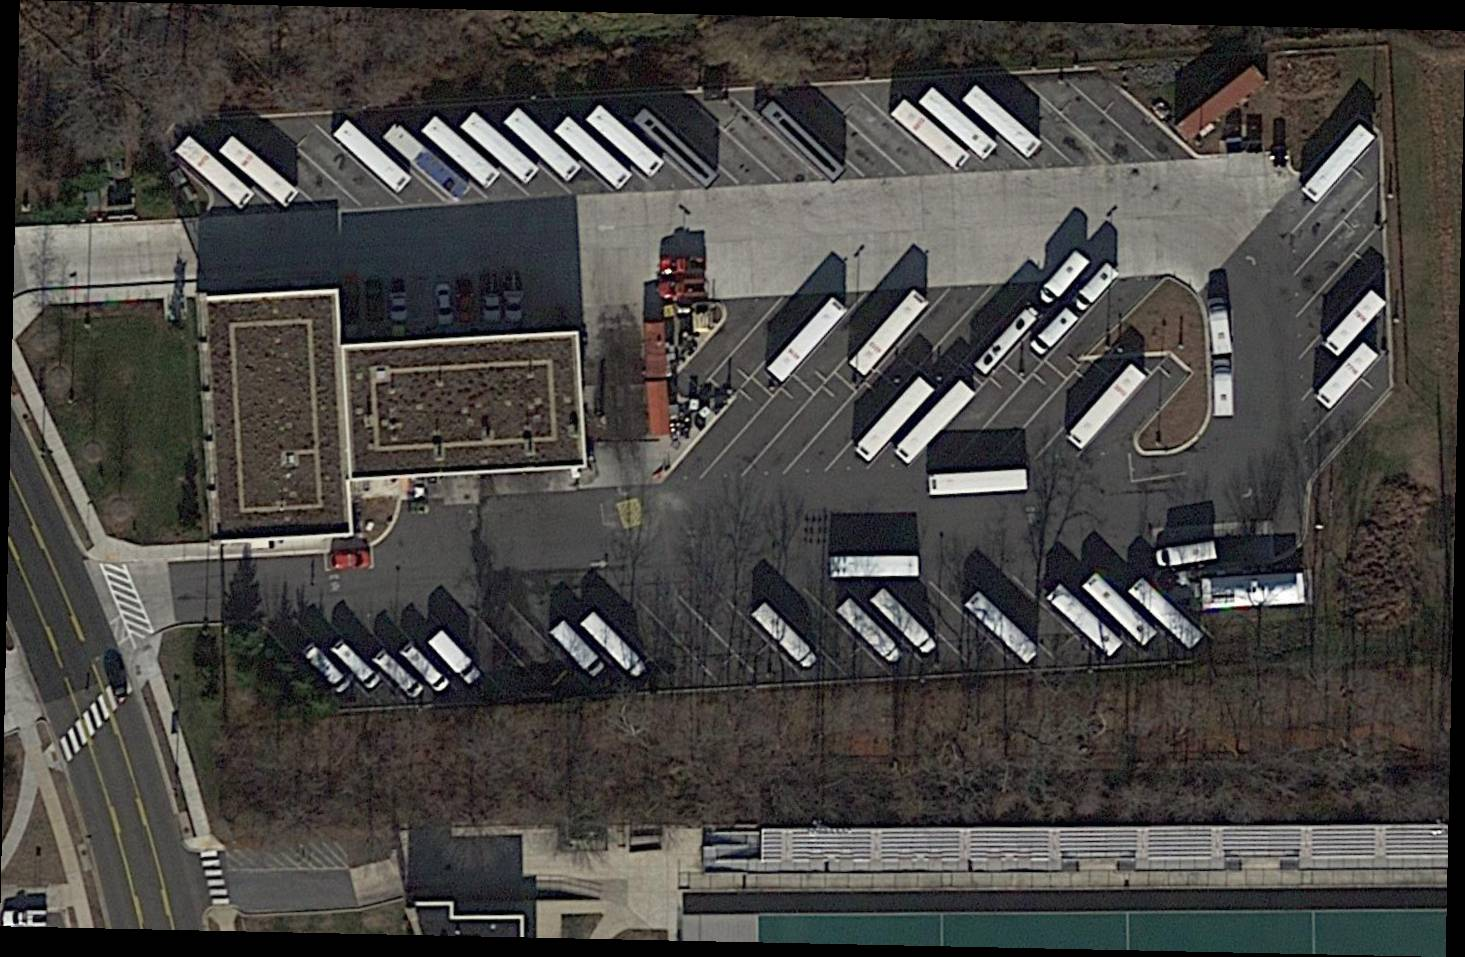large vehicle: (1066, 362, 1150, 452), (767, 296, 850, 386), (894, 378, 979, 464), (384, 121, 472, 203), (854, 376, 936, 464), (849, 288, 930, 375), (173, 135, 256, 212), (961, 82, 1043, 159), (554, 114, 635, 191), (333, 117, 413, 193), (1300, 126, 1375, 207), (1045, 583, 1126, 658), (585, 103, 664, 178), (462, 112, 542, 186), (919, 87, 999, 161), (890, 99, 971, 172), (218, 136, 300, 207), (964, 593, 1043, 666), (1084, 572, 1159, 648), (1129, 577, 1206, 649), (974, 304, 1042, 377), (870, 586, 939, 656), (752, 602, 821, 671), (1322, 288, 1387, 358), (580, 612, 648, 677), (836, 598, 903, 663), (1319, 342, 1381, 409), (551, 620, 608, 680), (927, 467, 1032, 497), (428, 630, 483, 686), (1038, 251, 1091, 307), (330, 639, 383, 694), (372, 647, 425, 701), (400, 643, 451, 695), (302, 642, 352, 695), (1029, 307, 1079, 359), (1071, 262, 1120, 314), (832, 553, 921, 580), (1157, 541, 1218, 569), (1207, 299, 1232, 354), (1213, 359, 1234, 418)
small vehicle: (364, 281, 388, 324), (328, 551, 374, 572), (659, 258, 707, 278), (657, 280, 709, 298), (2, 908, 48, 927), (340, 281, 361, 322), (388, 288, 409, 327), (456, 280, 475, 322), (434, 284, 453, 325)
